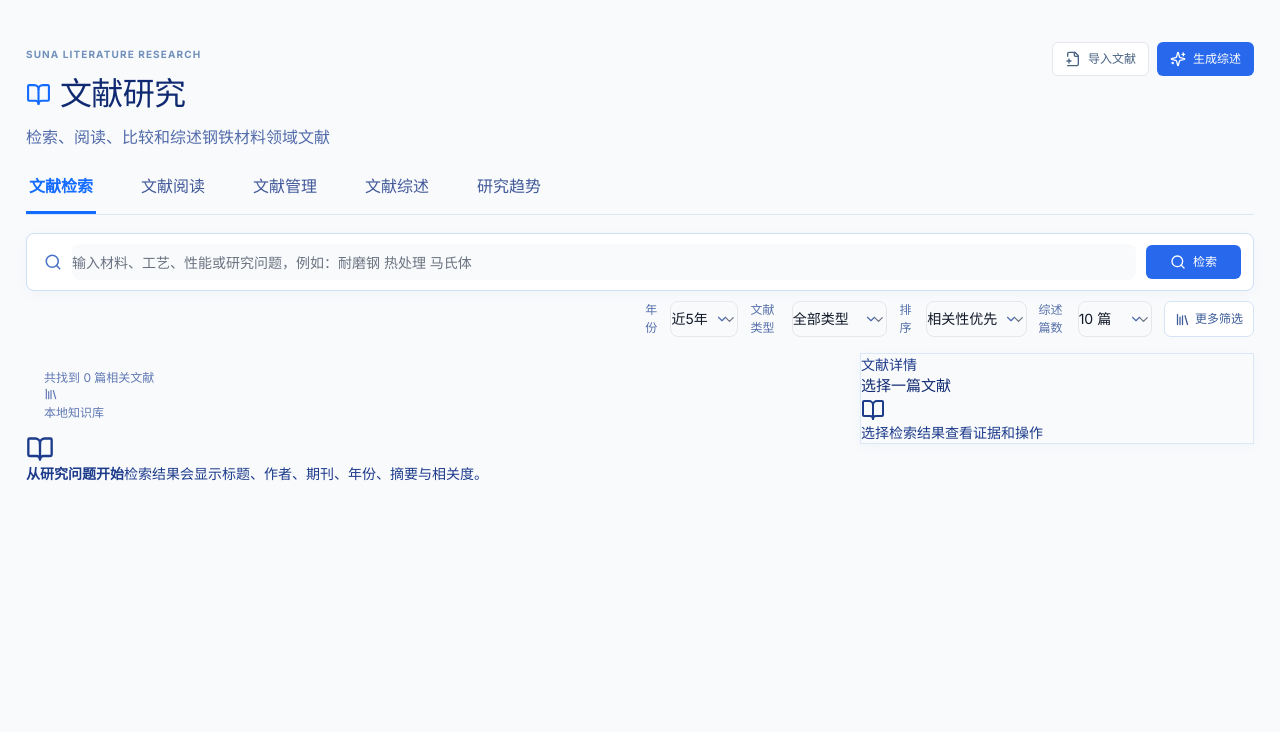
Test: LiteratureResearchPage › 检索结果展示作者、期刊与年份（第 27 章）
Type "耐磨钢 热处理 马氏体" into the field with placeholder "输入材料、工艺、性能或研究问题，例如：耐磨钢 热处理 马氏体" at coordinates (604, 262), box [72,244,1136,280]
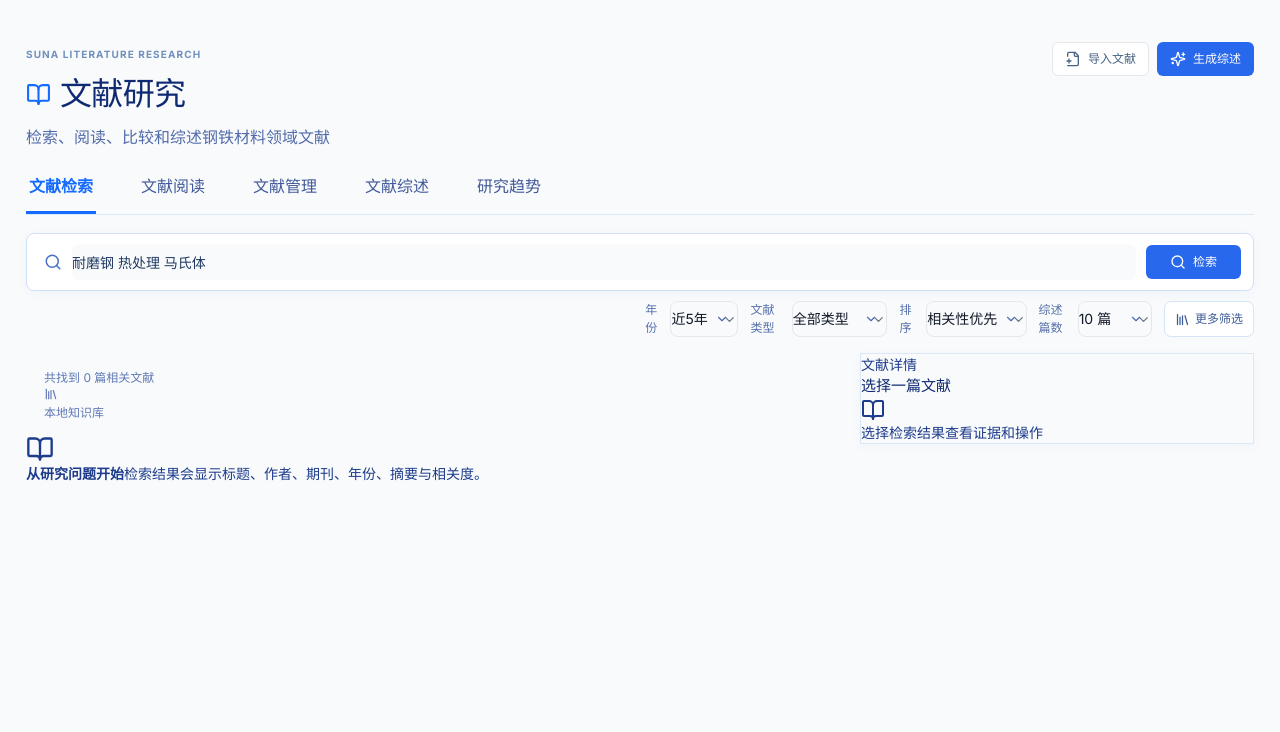
Click the button "检索" at coordinates (1194, 262), box [1146,245,1241,279]
(page scrolled)
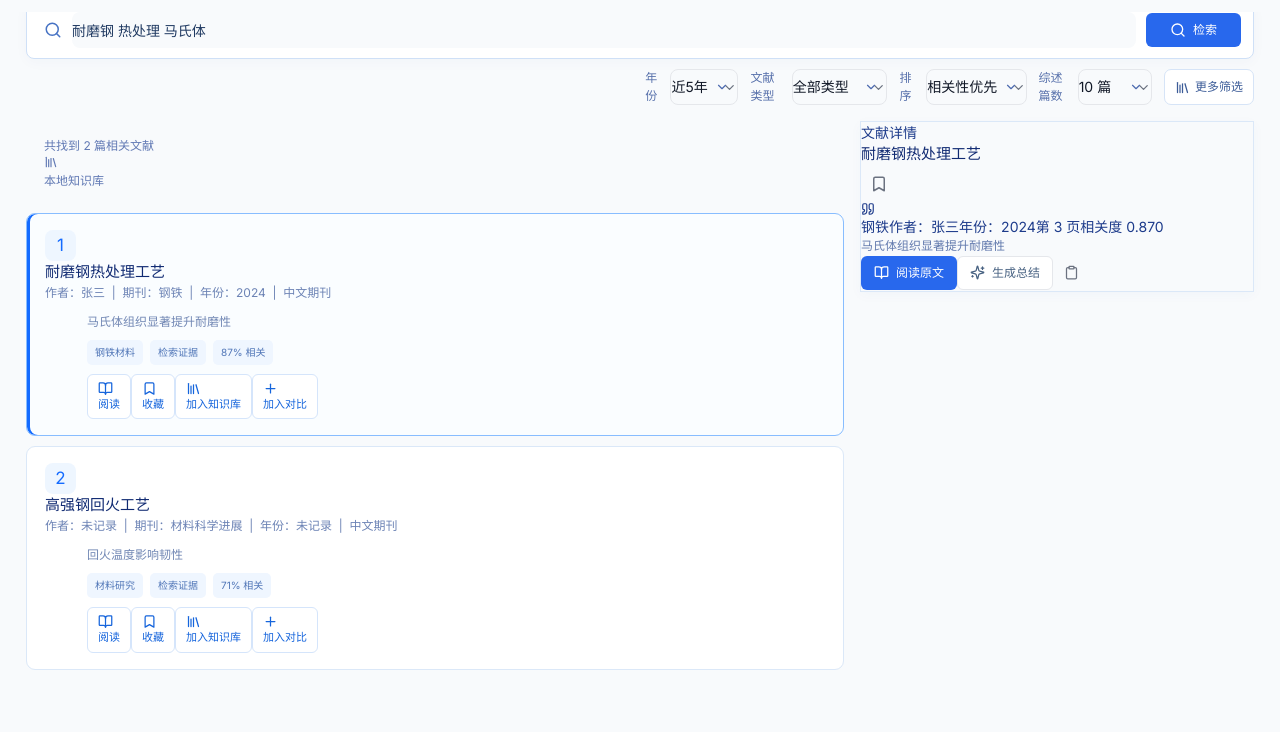
Result: the text "作者：张三 | 期刊：钢铁 | 年份：2024 | 中文期刊" is shown at [45,284,331,300]
Result: the text "作者：未记录 | 期刊：材料科学进展 | 年份：未记录 | 中文期刊" is shown at [45,518,398,533]
